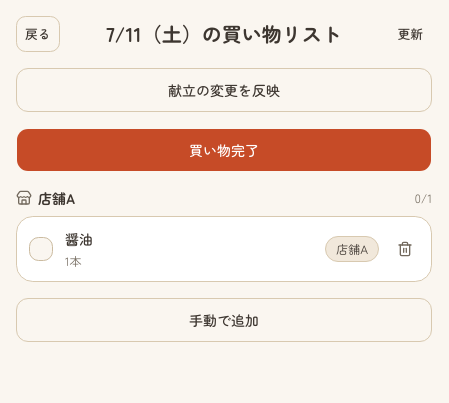
ShoppingListClient（完了・再開） › CB-11: 完了後は item のチェックと店舗再割当が操作できない（表示は残す）
This screenshot has width=449, height=403.
Click the button "買い物完了" at (224, 150), box [16,128,432,172]
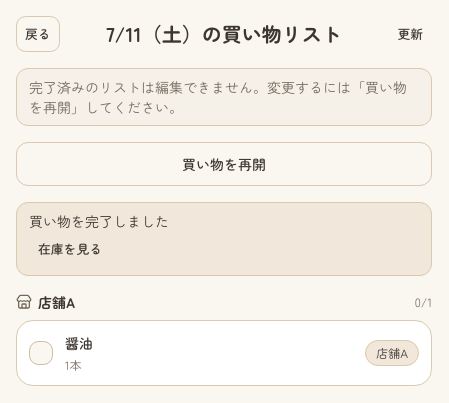
Check: the text "買い物を完了しました" is shown, box [29,211,169,231]
Check: the checkbox named "醤油" is disabled, box [29,341,53,365]
Check: the button "店舗A" is disabled, box [365,340,419,366]
